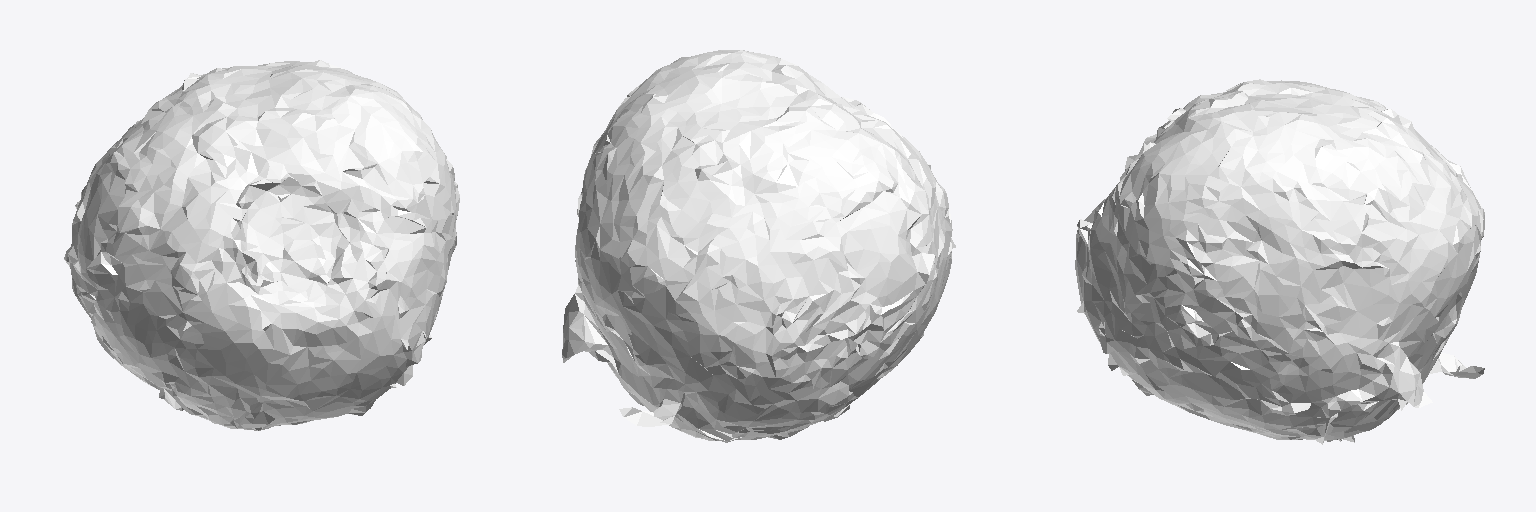
The model's file is taro.obj.
3 views of the same model, side by side, from view 1: azimuth 30°, elevation 25°; view 2: azimuth 150°, elevation 25°; view 3: azimuth 270°, elevation 25° (orthographic).
Visible parts, largest first — view 1: taro; view 2: taro; view 3: taro.
Part boxes in pixels (bbox=[...]): taro: bbox=[64, 60, 459, 430]; taro: bbox=[562, 50, 955, 442]; taro: bbox=[1075, 79, 1484, 444].
Size of the model in its own units: 0.3491 by 0.3369 by 0.3736.